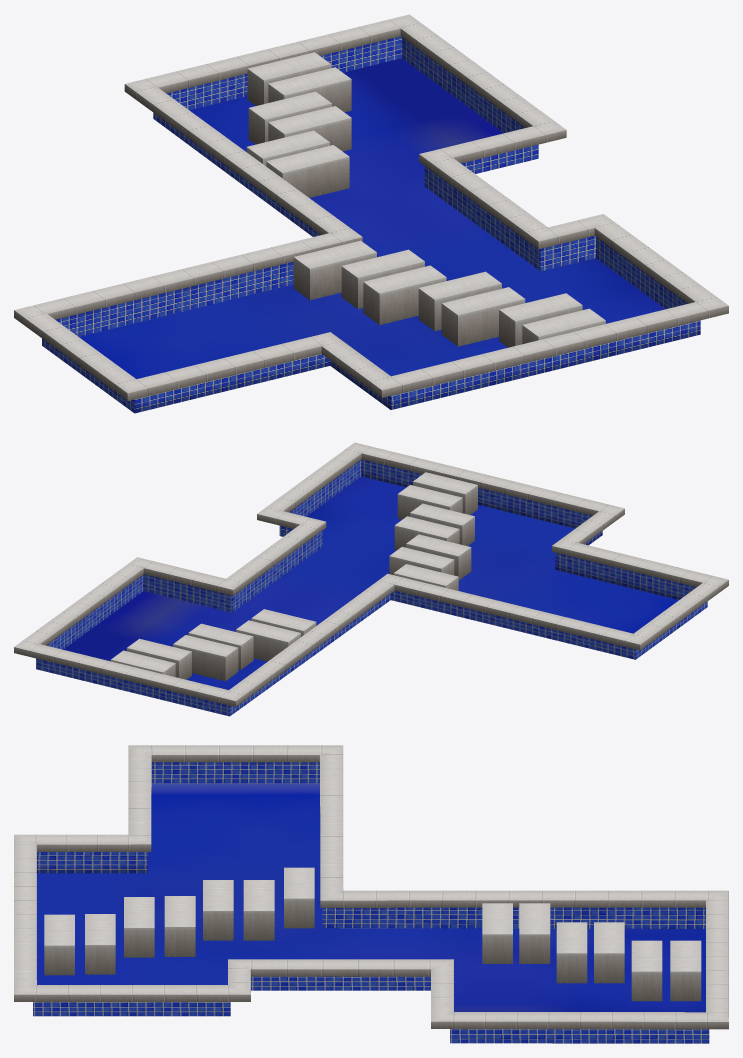
Rendered from house_0130002_sc2i.FBX.
The picture shows the model from 3 angles, top to bottom: view 1: azimuth 30°, elevation 25°; view 2: azimuth 150°, elevation 25°; view 3: azimuth 270°, elevation 25°; orthographic projection. The views are drawn at different scales.
Parts seen in each view (by area): view 1: house_0130002_sc2; view 2: house_0130002_sc2; view 3: house_0130002_sc2.
Part boxes in pixels (x1,y1,x2,y2): house_0130002_sc2: (14, 14, 728, 413); house_0130002_sc2: (14, 442, 728, 716); house_0130002_sc2: (14, 745, 728, 1043).
Size of the model in its own units: 1419 by 75.52 by 1551.
1 material, 1 textured.
